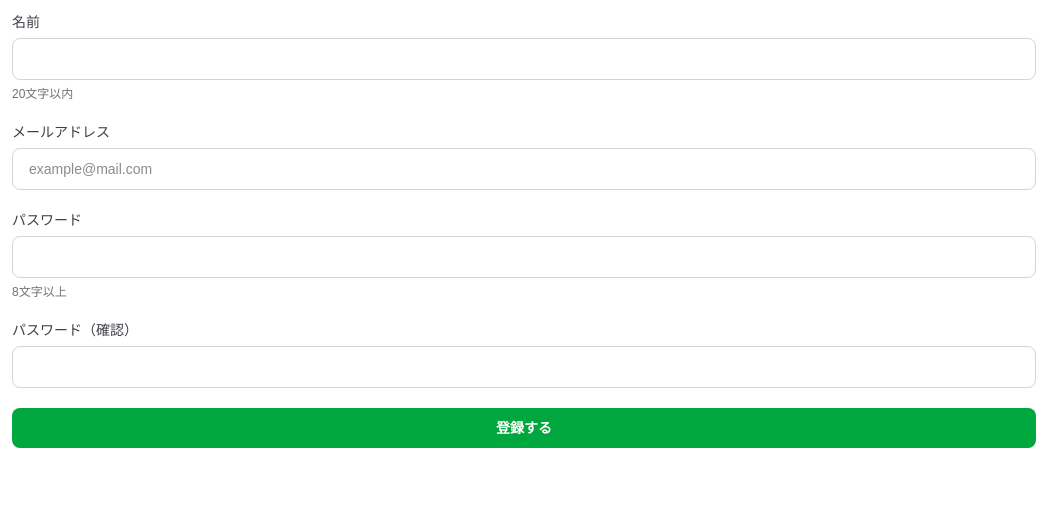
試行回数が多すぎる（429）と、フォームの上にエラーを出す
In the field labelled "名前": {"x": 524, "y": 59} x1=12 y1=38 x2=1036 y2=80, type "鈴木花子"
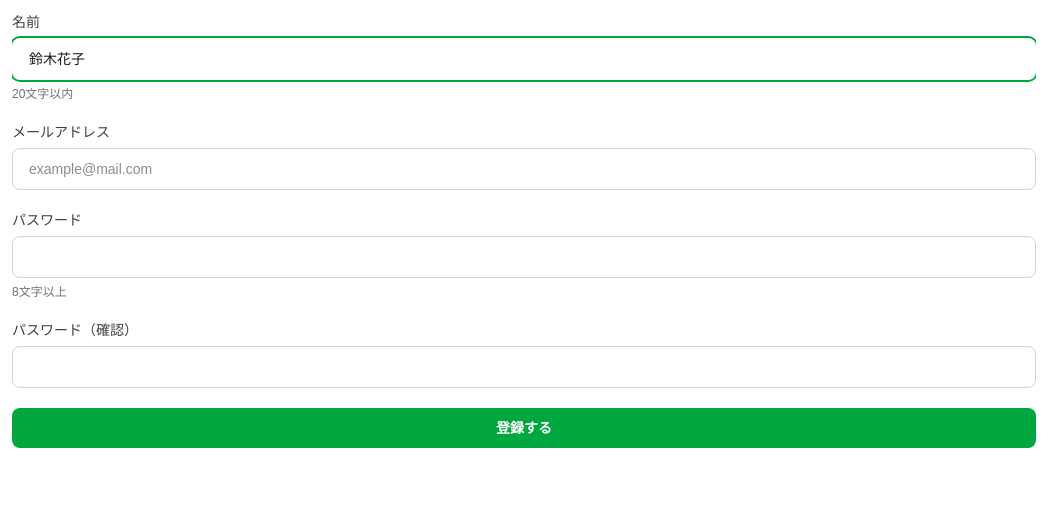
In the field labelled "メールアドレス": {"x": 524, "y": 169} x1=12 y1=148 x2=1036 y2=190, type "hanako@example.com"
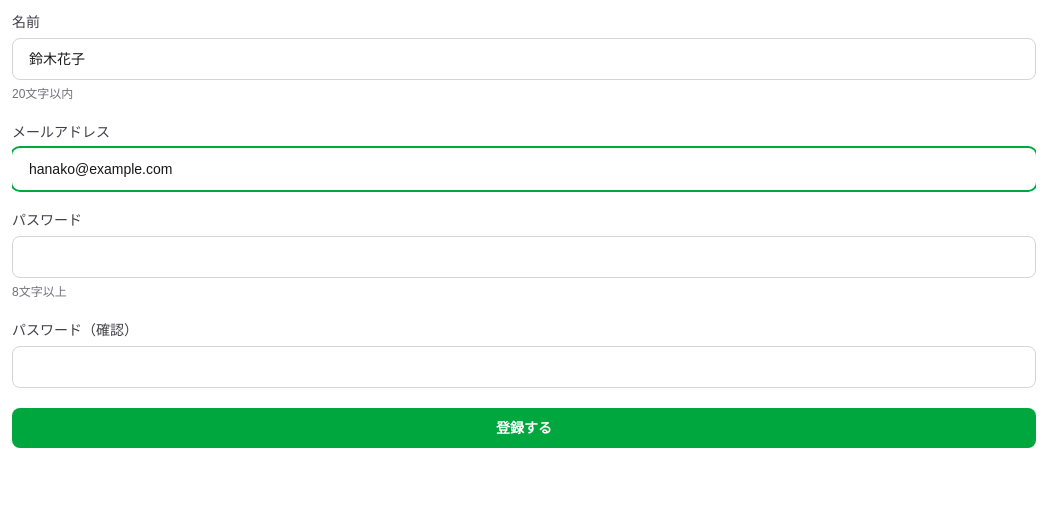
In the password field labelled "パスワード": {"x": 524, "y": 257} x1=12 y1=236 x2=1036 y2=278, type "password123"
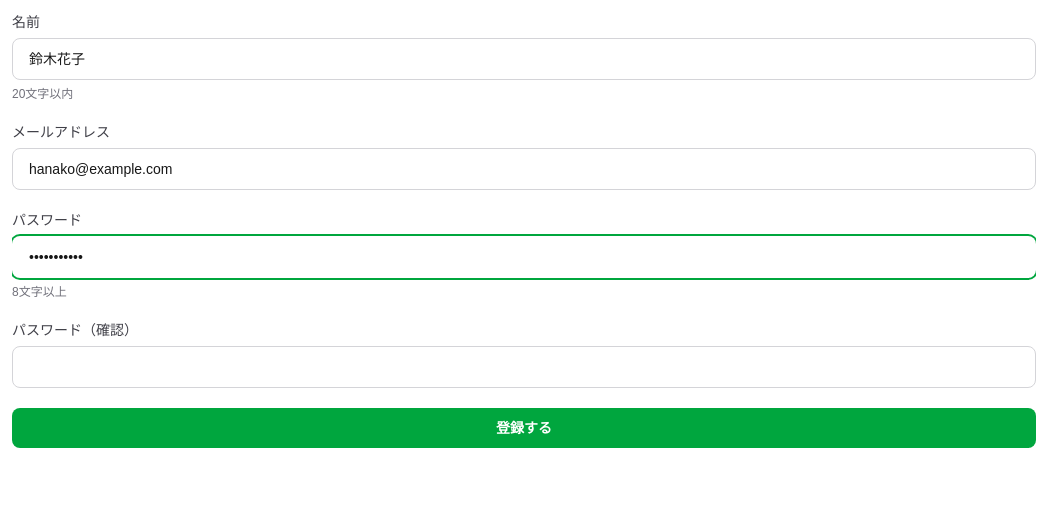
In the password field labelled "パスワード（確認）": {"x": 524, "y": 367} x1=12 y1=346 x2=1036 y2=388, type "password123"
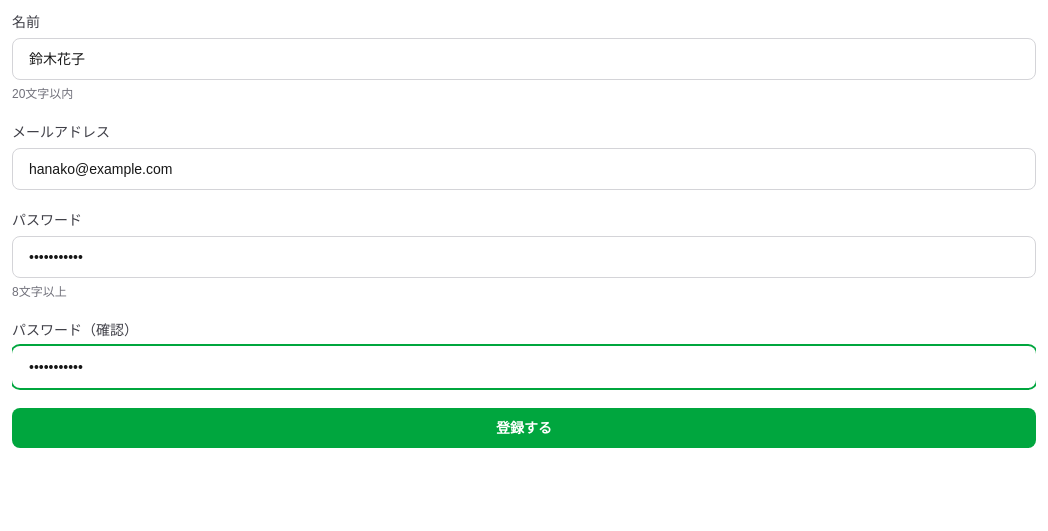
Click the button "登録する": {"x": 524, "y": 428} x1=12 y1=408 x2=1036 y2=448
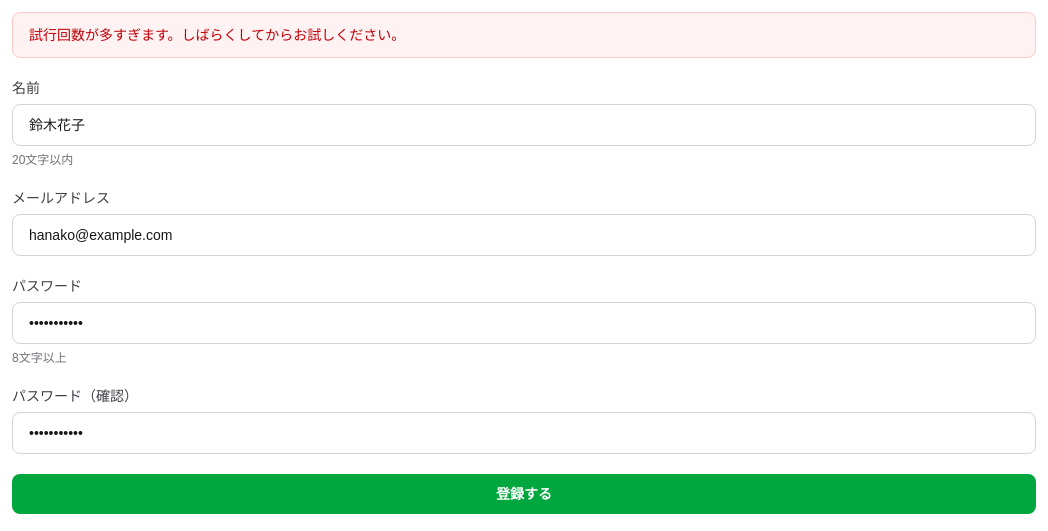
Now the message reads "試行回数が多すぎます。しばらくしてからお試しください。", box x1=29 y1=27 x2=405 y2=43
